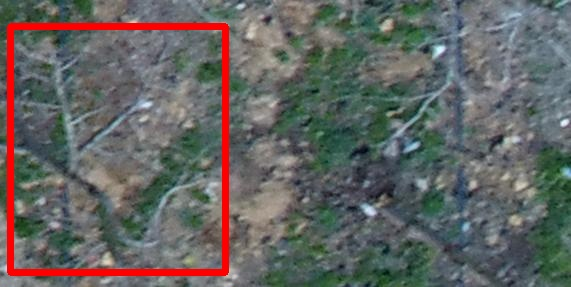apple: (10, 26, 225, 272)
